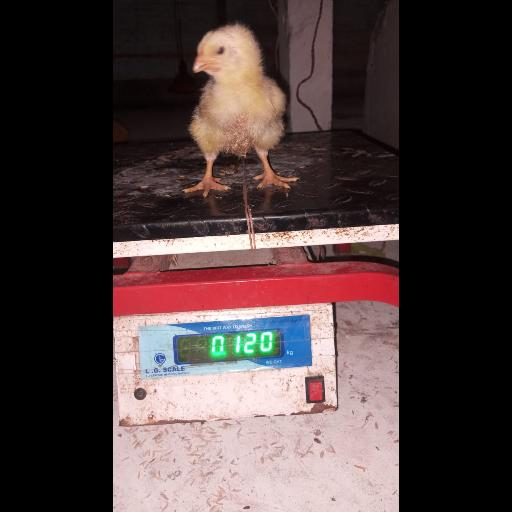chick: (187, 24, 301, 197)
